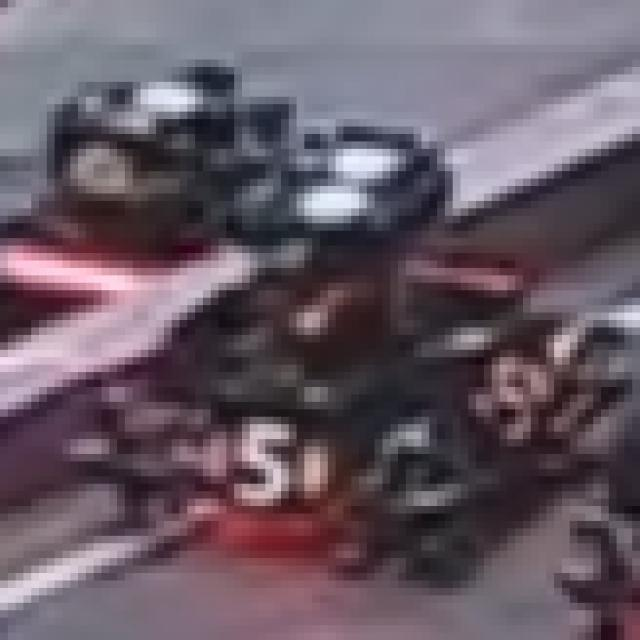R5: (195, 409, 320, 506)
